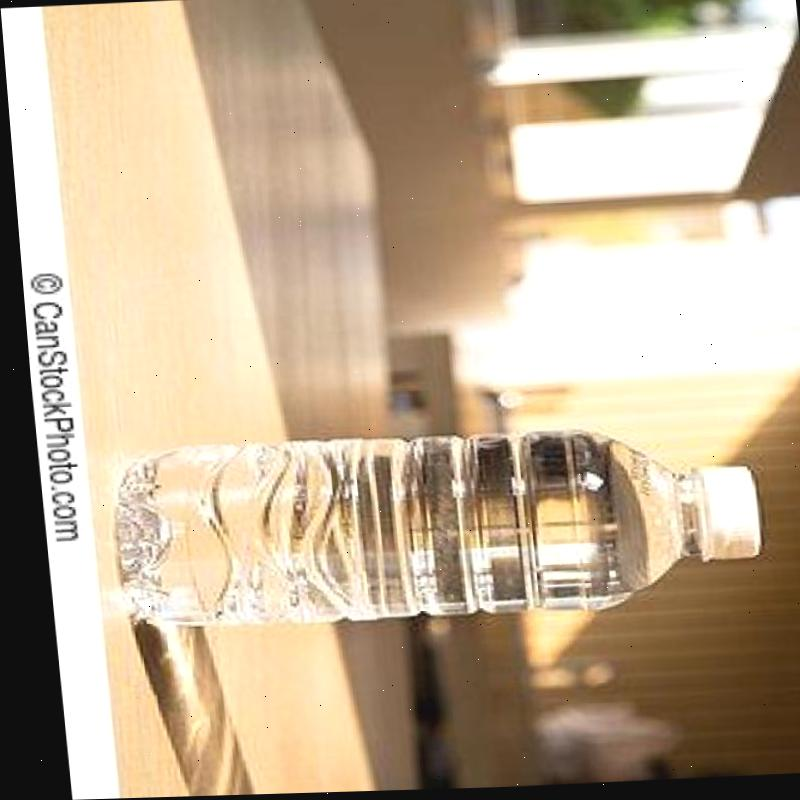botella: (98, 421, 760, 632)
